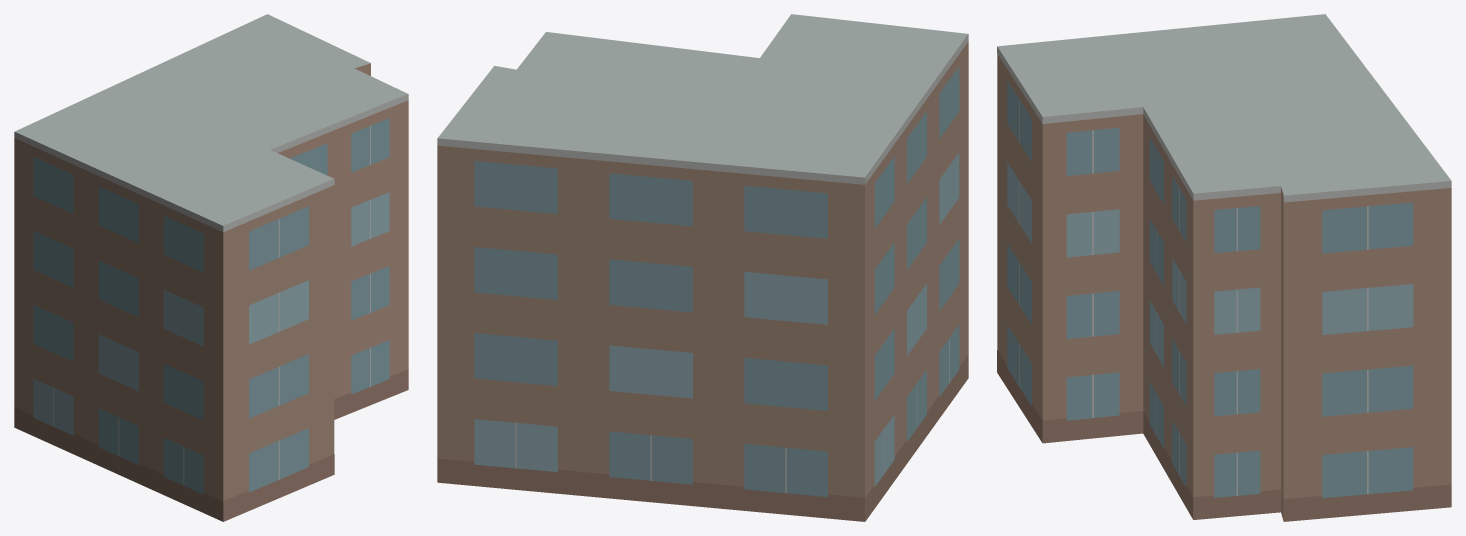
The model's file is survey-upis-32591260.glb.
3 views of the same model, side by side, from view 1: azimuth 30°, elevation 25°; view 2: azimuth 150°, elevation 25°; view 3: azimuth 270°, elevation 25° (orthographic). The views are drawn at different scales.
Parts seen in each view (by area): view 1: survey-upis-32591260.tmp; view 2: survey-upis-32591260.tmp; view 3: survey-upis-32591260.tmp.
Boxes of the visible parts, bbox=[...] form: survey-upis-32591260.tmp: bbox=[14, 14, 408, 521]; survey-upis-32591260.tmp: bbox=[437, 14, 968, 521]; survey-upis-32591260.tmp: bbox=[997, 14, 1451, 521].
Bounding box in the file's own units: 13.81 × 11.56 × 14.61.
